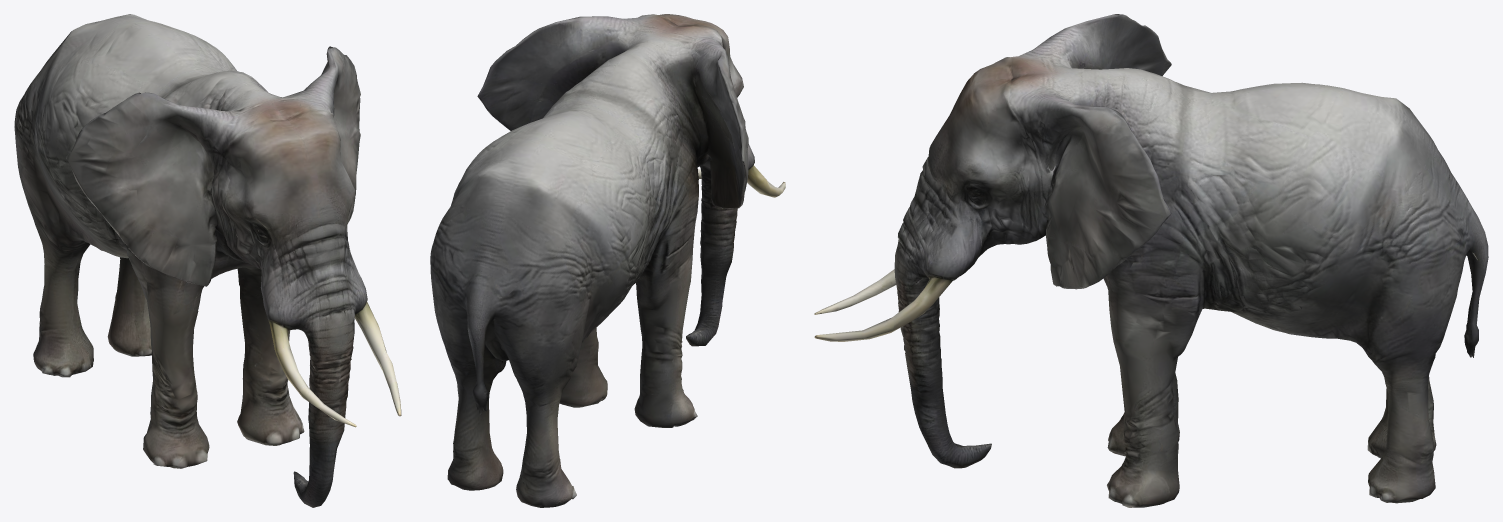
The model's file is elephant.glb.
3 views of the same model, side by side, from view 1: azimuth 30°, elevation 25°; view 2: azimuth 150°, elevation 25°; view 3: azimuth 270°, elevation 25° (orthographic). The views are drawn at different scales.
Size of the model in its own units: 0.998 by 1.28 by 1.9.
Materials: 1 (1 with a texture image).
